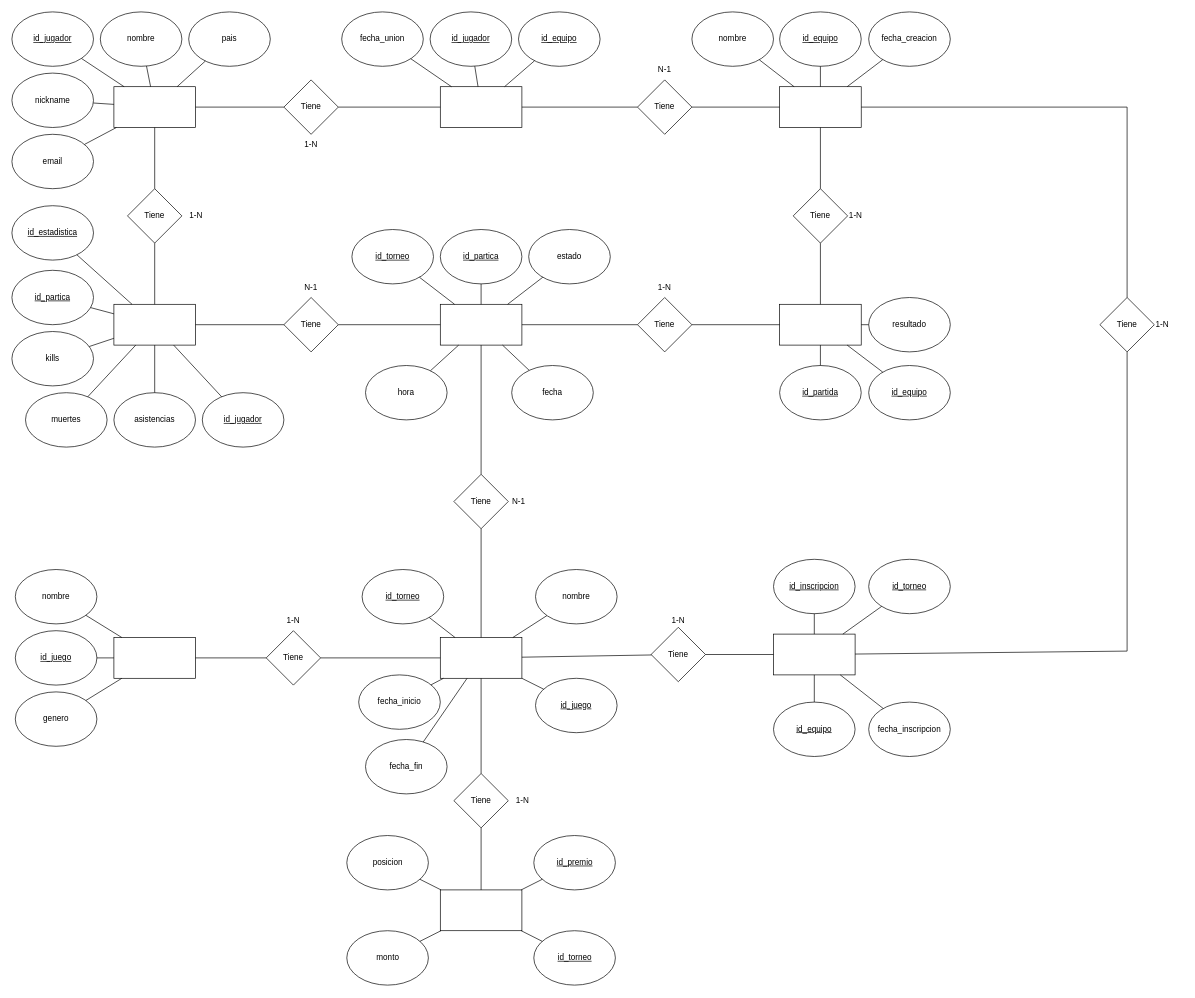
Image size: 1195x998. Some labels were removed from this diagram. Each missing label, with the centre of its shape:
"Equipo" goes at (820,107).
"Estadistica" goes at (154,324).
"inscripcion" goes at (814,654).
"Juego" goes at (154,657).
"Jugador" goes at (154,107).
"jugador_equipo" goes at (481,107).
"participacion" goes at (820,324).
"Partida" goes at (481,324).
"Premio" goes at (481,910).
"torneo" goes at (481,657).
